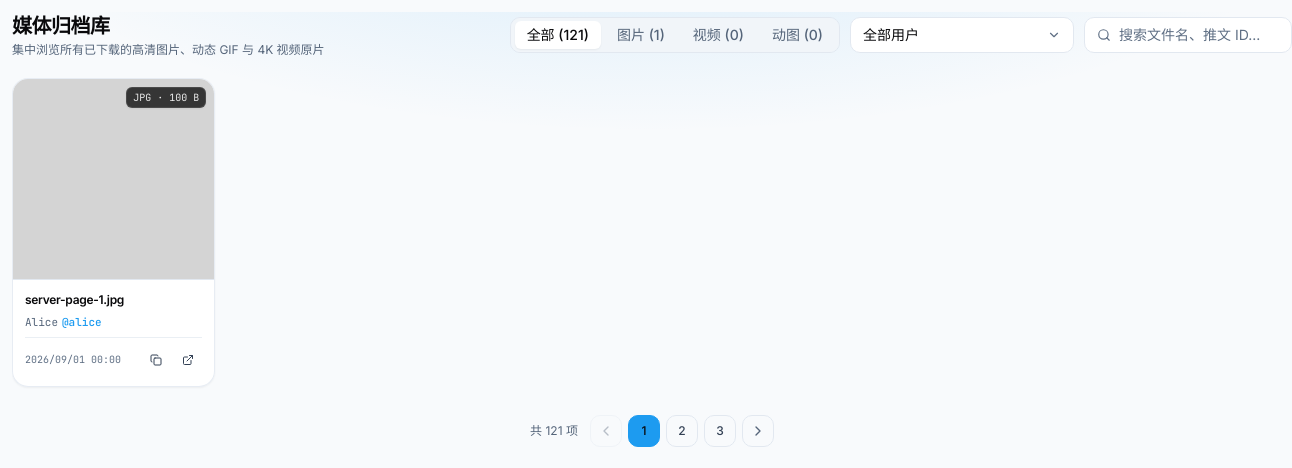
it: loads the selected server page without resetting it to page one
Expected: the text "server-page-1.jpg" is shown, top-left (25, 292), bottom-right (124, 307)
Click the button named "第 2 页".
click(682, 431)  # box top-left (666, 415), bottom-right (698, 447)
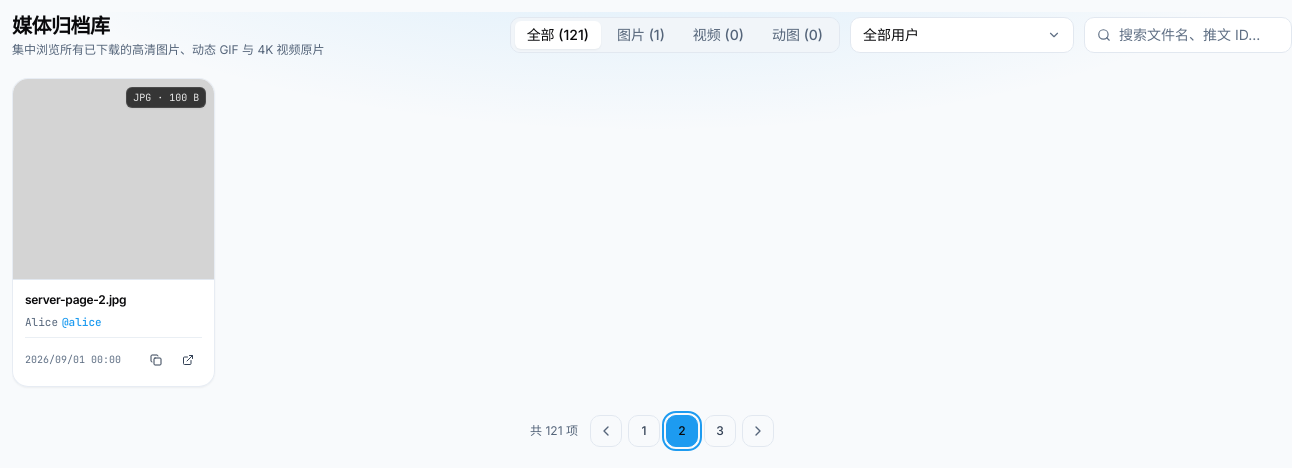
Expected: the radio button "全部 (121)" is shown, top-left (515, 21), bottom-right (601, 49)
Expected: the text "server-page-2.jpg" is shown, top-left (25, 292), bottom-right (126, 307)
Expected: the text "server-page-1.jpg" is gone
